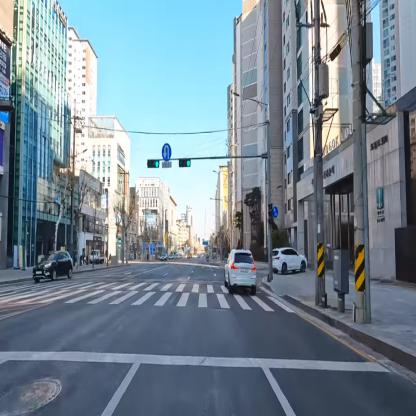Green: (179, 156, 191, 169), (146, 159, 161, 169)
